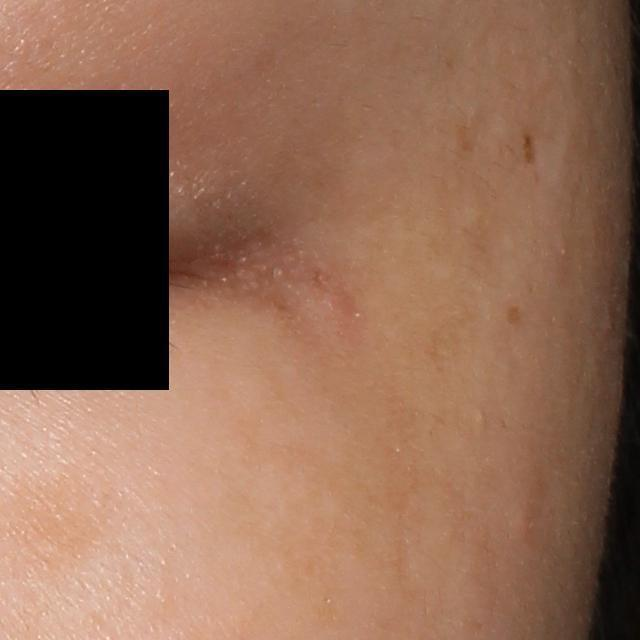melasma: (32, 470, 112, 559)
nevus: (523, 129, 535, 162)
